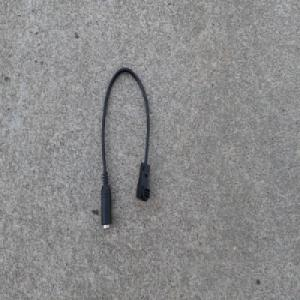Wire: (100, 65, 150, 231)
